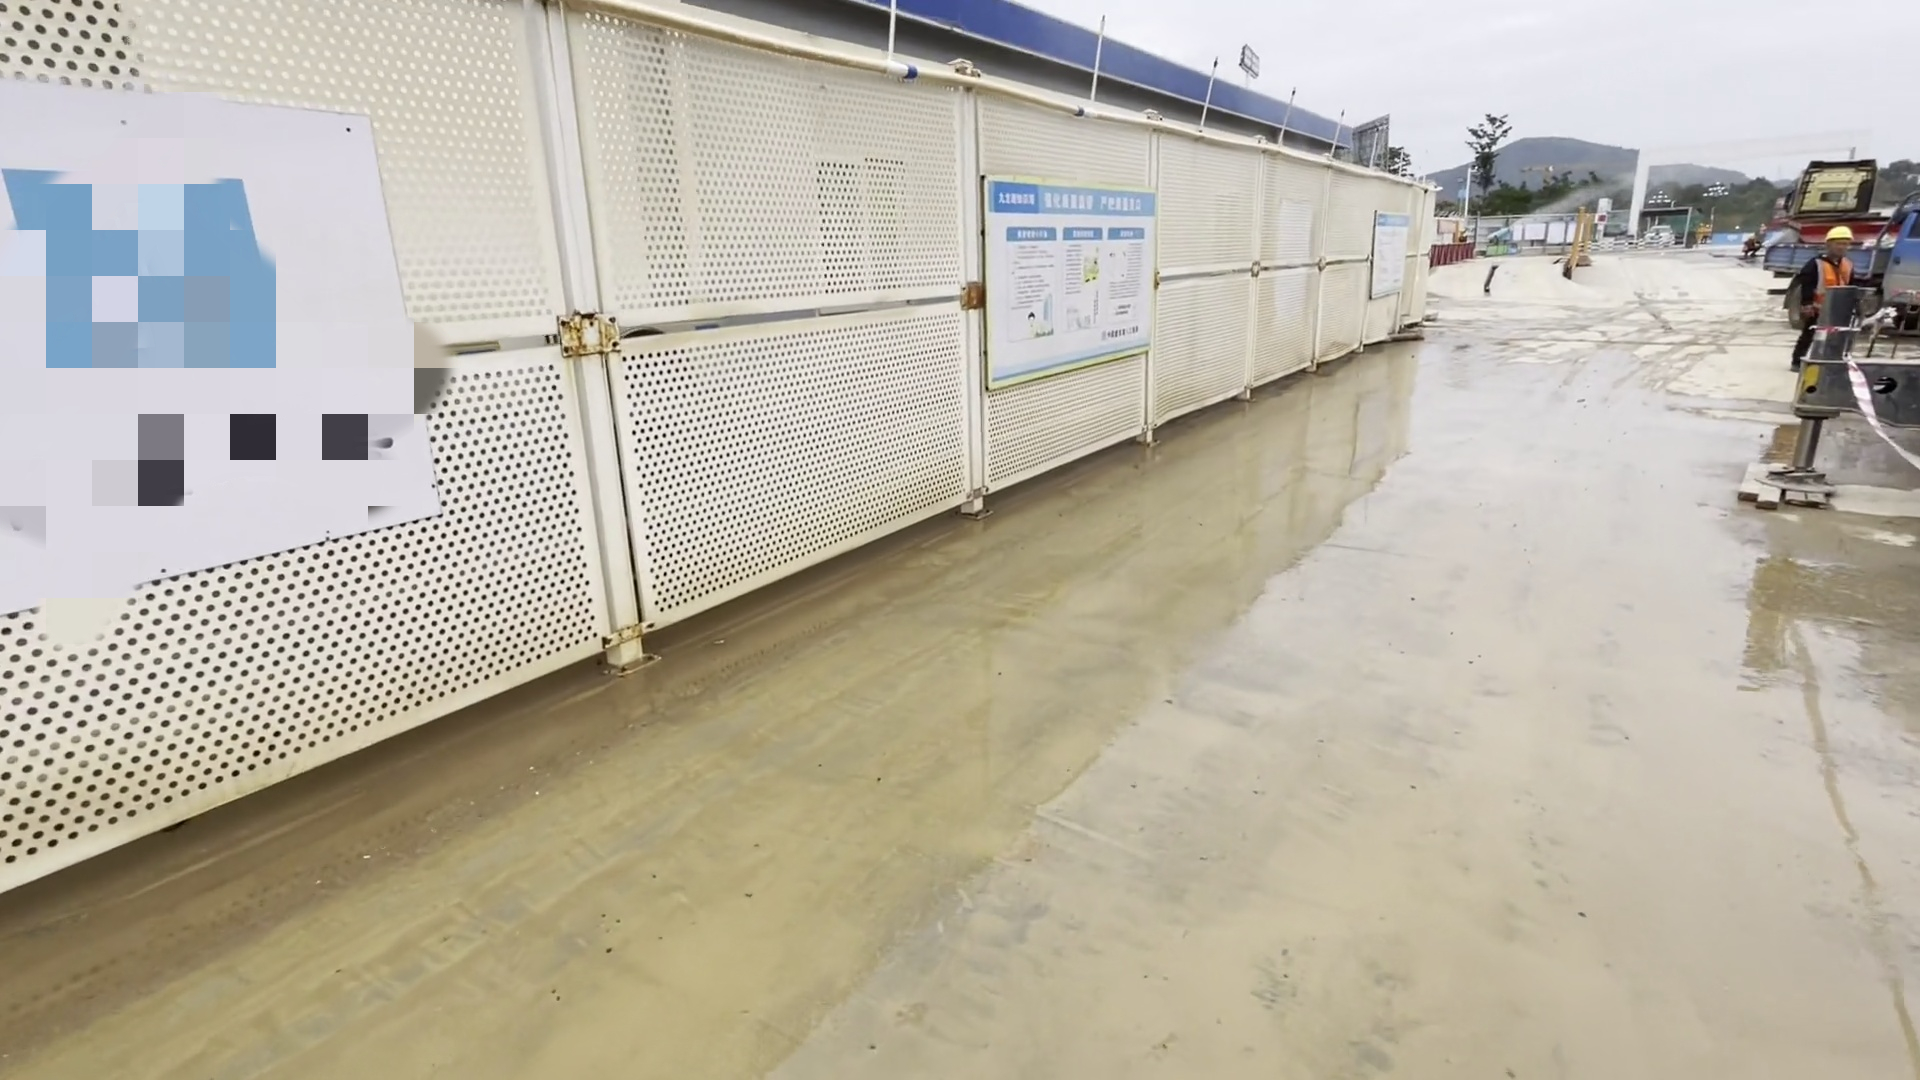slogan: (984, 170, 1156, 392)
